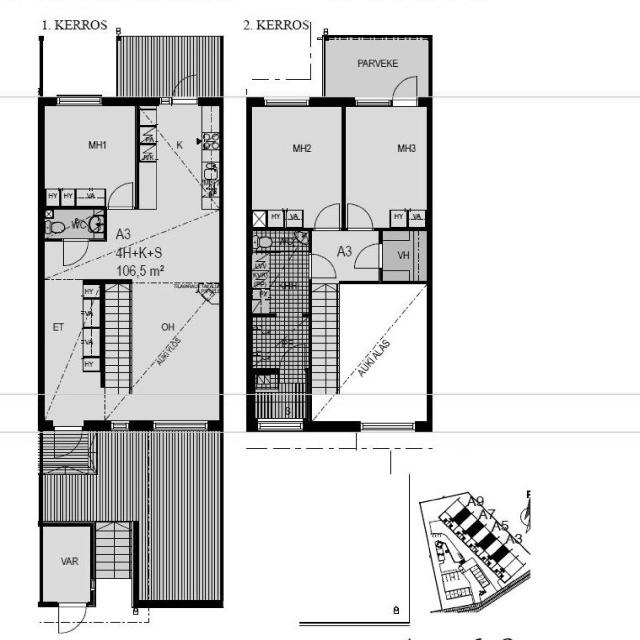door: (50, 424, 87, 458), (55, 601, 89, 634), (306, 251, 338, 282), (351, 242, 384, 272), (344, 202, 375, 232), (170, 75, 199, 105), (314, 201, 342, 232), (60, 238, 90, 266), (108, 180, 136, 210), (391, 73, 419, 103)
window: (355, 418, 420, 436), (150, 419, 212, 432), (54, 94, 103, 107), (259, 95, 311, 107), (350, 94, 392, 108), (258, 418, 304, 429), (108, 419, 132, 432)
zone: (45, 279, 220, 422), (336, 281, 427, 421), (249, 104, 343, 228), (344, 103, 428, 229), (42, 103, 137, 209), (137, 106, 220, 214), (446, 489, 529, 552), (248, 231, 310, 315), (40, 524, 93, 605), (249, 312, 311, 381), (253, 367, 310, 418), (381, 230, 430, 283), (42, 209, 106, 240), (439, 570, 471, 608)
